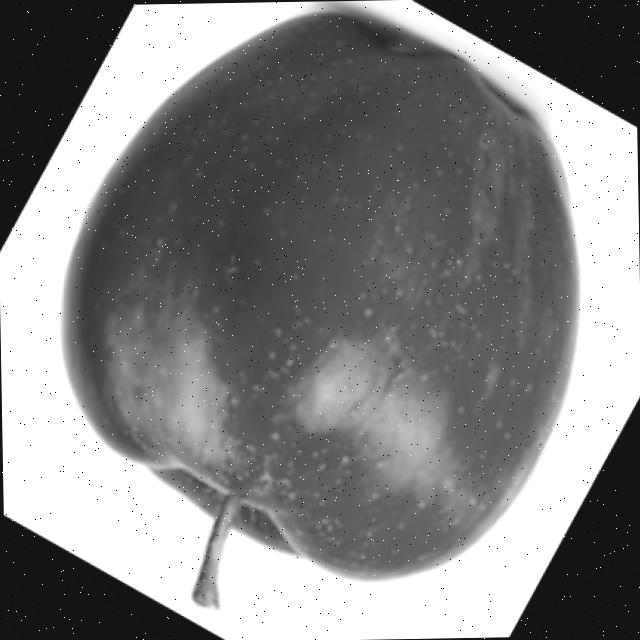Ripe: (41, 0, 591, 595)
